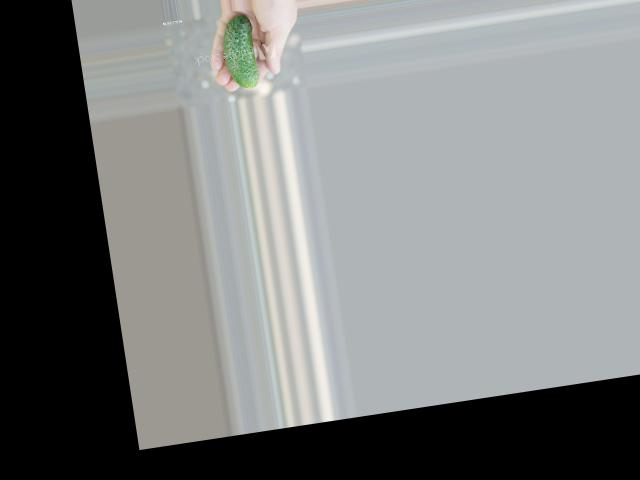cucumber: (217, 12, 260, 90)
